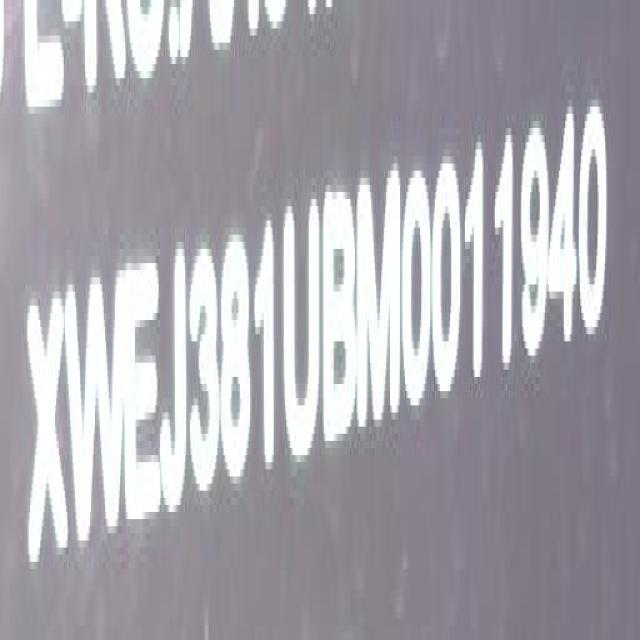0: (402, 153, 434, 421), (580, 93, 612, 348), (432, 144, 462, 410)
1: (493, 116, 519, 386), (255, 206, 280, 486), (465, 129, 487, 404)
3: (190, 231, 224, 508)
4: (550, 104, 580, 358)
8: (219, 223, 253, 494)
9: (520, 112, 550, 374)
B: (322, 178, 360, 453)
E: (125, 261, 164, 537)
J: (160, 250, 191, 520)
M: (358, 159, 404, 435)
U: (282, 189, 322, 472)
W: (68, 266, 124, 564)
X: (27, 288, 70, 584)
